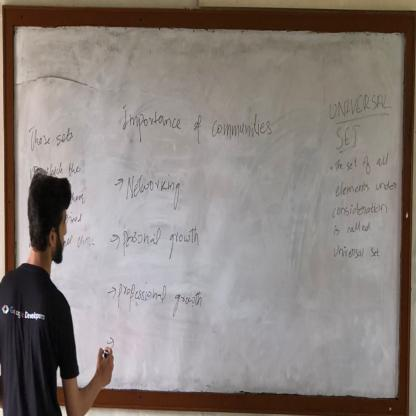Handwritten text: (119, 98, 275, 142), (115, 277, 208, 325), (121, 219, 206, 263), (125, 164, 182, 215), (325, 88, 396, 121), (27, 120, 78, 159), (332, 153, 393, 175), (333, 241, 385, 266), (325, 199, 390, 218), (336, 180, 401, 196), (330, 218, 374, 239), (333, 122, 362, 153)
Lecturer: (8, 163, 92, 404)
Whiteboard: (10, 17, 409, 411)
